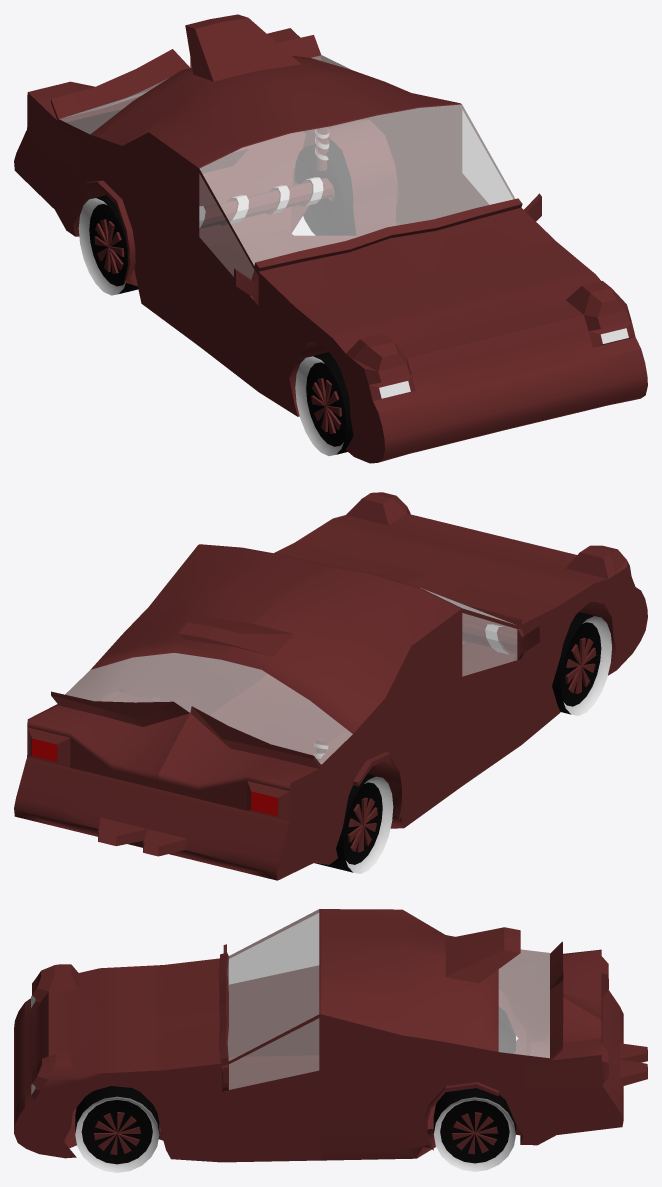
File: Real Car.fbx
The picture shows the model from 3 angles, top to bottom: view 1: azimuth 30°, elevation 25°; view 2: azimuth 150°, elevation 25°; view 3: azimuth 270°, elevation 25°; orthographic projection. The views are drawn at different scales.
Parts seen in each view (by area): view 1: Body, Tyre1, Tyre3, Tyre2, Axle1, Rim (×2); view 2: Body, Tyre1, Tyre2, Rim (×2), Axle; view 3: Body, Tyre, Tyre3, Rim (×2), Tyre2.
Boxes of the visible parts, box(x1,y1,x2,y2) form: Body: box(14, 14, 647, 463); Tyre1: box(295, 352, 353, 455); Tyre3: box(295, 140, 355, 237); Tyre2: box(78, 195, 138, 295); Axle1: box(199, 177, 334, 228); Rim (×2): box(94, 219, 341, 434); Body: box(14, 492, 647, 880); Tyre1: box(552, 612, 611, 715); Tyre2: box(314, 774, 393, 873); Rim (×2): box(347, 637, 596, 852); Axle: box(462, 619, 516, 654); Body: box(14, 909, 647, 1162); Tyre: box(75, 1086, 159, 1172); Tyre3: box(433, 1088, 515, 1171); Rim (×2): box(94, 1111, 497, 1154); Tyre2: box(499, 1007, 515, 1053).
Bounding box in the file's own units: 0.0348 × 0.0244 × 0.0761.
